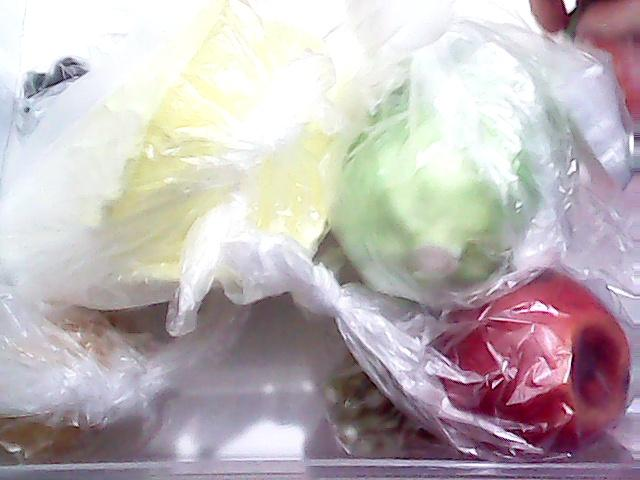apple: (438, 246, 640, 462)
cabbage: (314, 92, 534, 316)
carrot: (555, 4, 640, 124)
grape: (318, 329, 462, 467), (8, 46, 112, 106)
napa cabbage: (0, 14, 364, 298)
potato: (0, 293, 148, 465)
